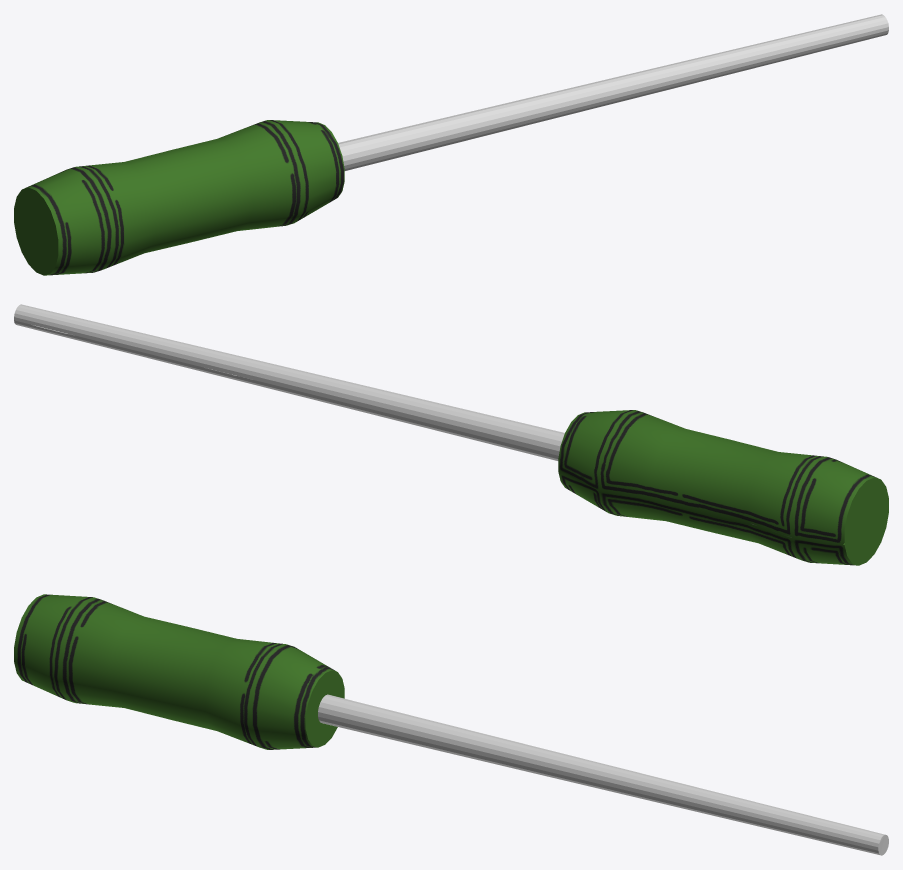
Rendered from Screwdriver3.FBX.
The picture shows the model from 3 angles, top to bottom: view 1: azimuth 30°, elevation 25°; view 2: azimuth 150°, elevation 25°; view 3: azimuth 330°, elevation 25°; orthographic projection.
Visible parts, largest first — view 1: Screwdriver3; view 2: Screwdriver3; view 3: Screwdriver3.
Part boxes in pixels (left/top/right/bottom): Screwdriver3: left=14, top=14, right=888, bottom=275; Screwdriver3: left=14, top=304, right=888, bottom=565; Screwdriver3: left=14, top=594, right=888, bottom=855.
Size of the model in its own units: 14.49 by 1.61 by 1.58.
1 material, 1 textured.
